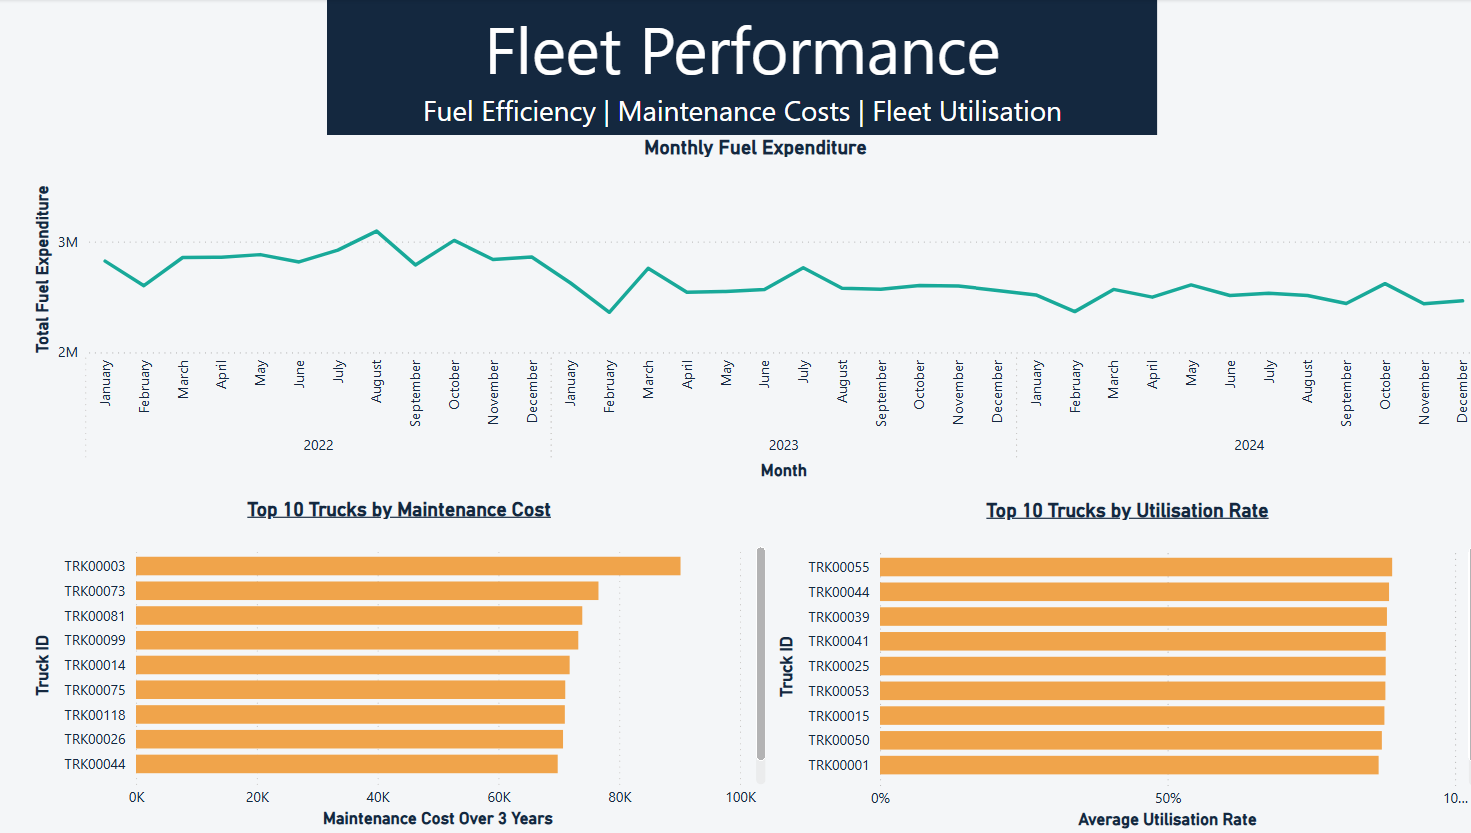

The page's visual inventory and layout, read from the dashboard file:
{"tool":"powerbi","page":{"name":"Fleet Performance","canvas":[1280,720],"ordinal":2},"visuals":[{"type":"textbox","box":[282,0,716.5,126.8],"z":0},{"type":"lineChart","title":"Monthly Fuel Expenditure","fields":{"Y":["logistics_analytics fuel_purchases.Total Fuel Expenditure"],"Category":["logistics_analytics fuel_purchases.purchase_date.Variation.Date Hierarchy.Year","logistics_analytics fuel_purchases.purchase_date.Variation.Date Hierarchy.Month"]},"box":[23.3,117.7,1256.7,302.5],"z":1},{"type":"clusteredBarChart","title":"Top 10 Trucks by Maintenance Cost","fields":{"Category":["logistics_analytics maintenance_records.truck_id"],"Y":["Sum(logistics_analytics maintenance_records.total_cost)"]},"box":[23.3,429.9,641.9,289.8],"z":2},{"type":"clusteredBarChart","title":"Top 10 Trucks by Utilisation Rate","fields":{"Category":["logistics_analytics truck_utilization_metrics.truck_id"],"Y":["Avg(logistics_analytics truck_utilization_metrics.utilization_rate)"]},"box":[665,430,615,290],"z":3}]}

Visuals, with their boxes in screenshot pixels (x1, y1, x2, y2), scaled from the page's 1280x720 canvas onto the 1471x833 screenshot:
textbox: BBox(324, 0, 1147, 147)
"Monthly Fuel Expenditure" lineChart: BBox(27, 136, 1470, 486)
"Top 10 Trucks by Maintenance Cost" clusteredBarChart: BBox(27, 497, 764, 832)
"Top 10 Trucks by Utilisation Rate" clusteredBarChart: BBox(764, 497, 1470, 832)
